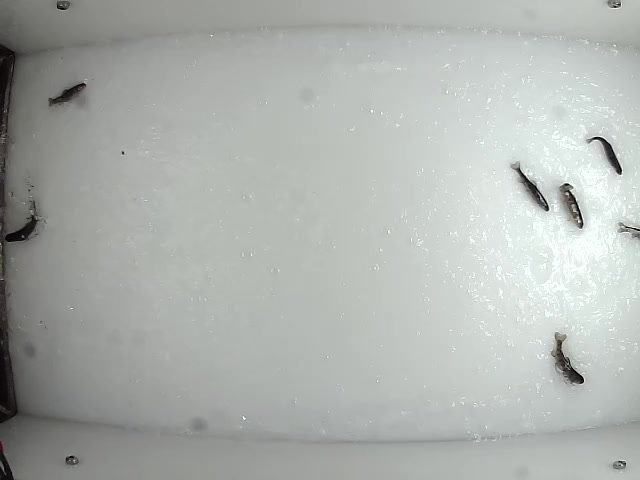fish: (509, 160, 549, 214), (551, 331, 588, 389), (2, 194, 39, 245), (556, 182, 583, 229), (46, 80, 88, 108)
